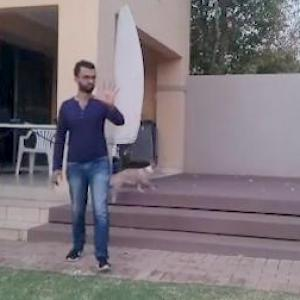follow_hand: (94, 75, 124, 110)
